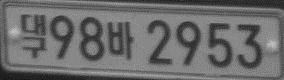2: (147, 19, 172, 65)
3: (237, 24, 262, 68)
5: (207, 22, 232, 68)
8: (78, 16, 104, 60)
9: (176, 20, 201, 65), (49, 14, 74, 58)
대구_V: (20, 13, 47, 58)
바: (107, 21, 134, 59)
